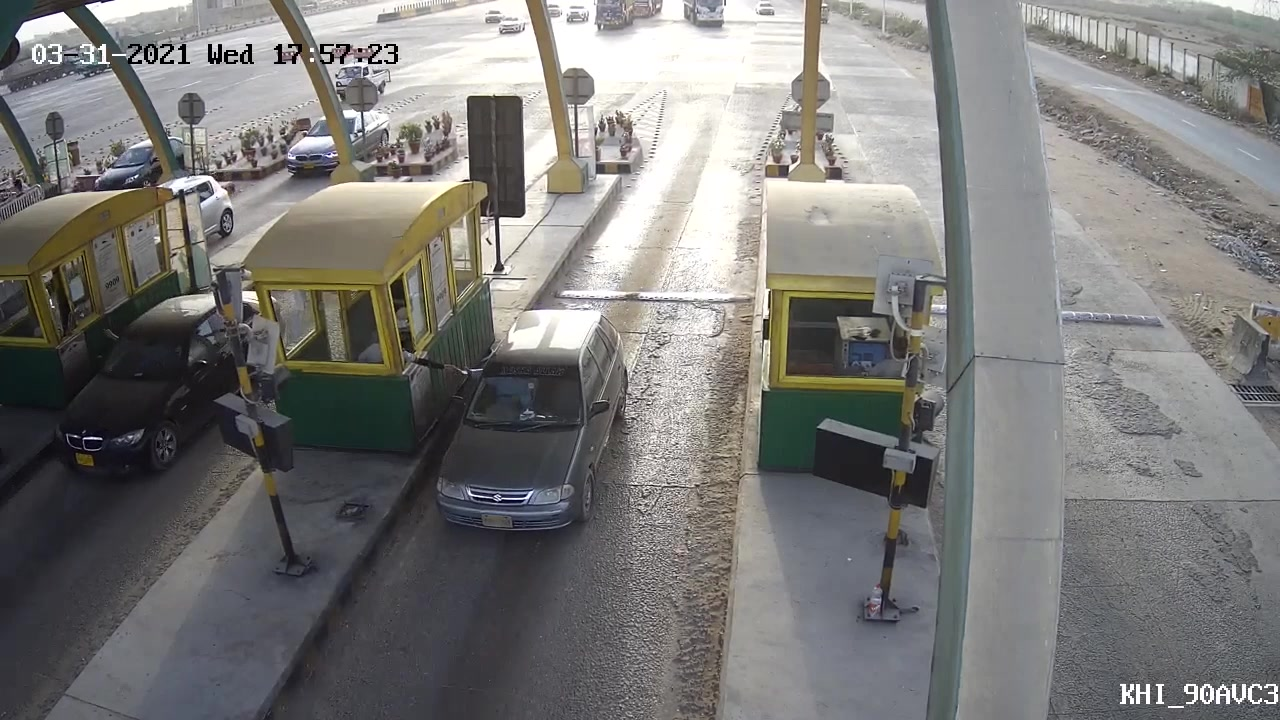F1: (425, 304, 638, 535)
